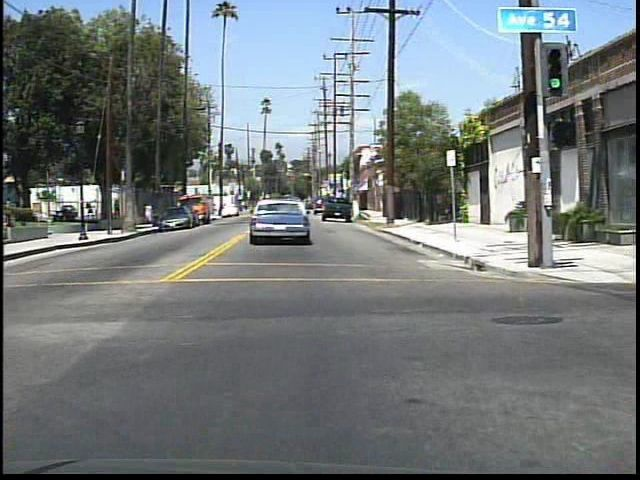person: (109, 195, 123, 220), (145, 198, 156, 227), (85, 198, 94, 220)
